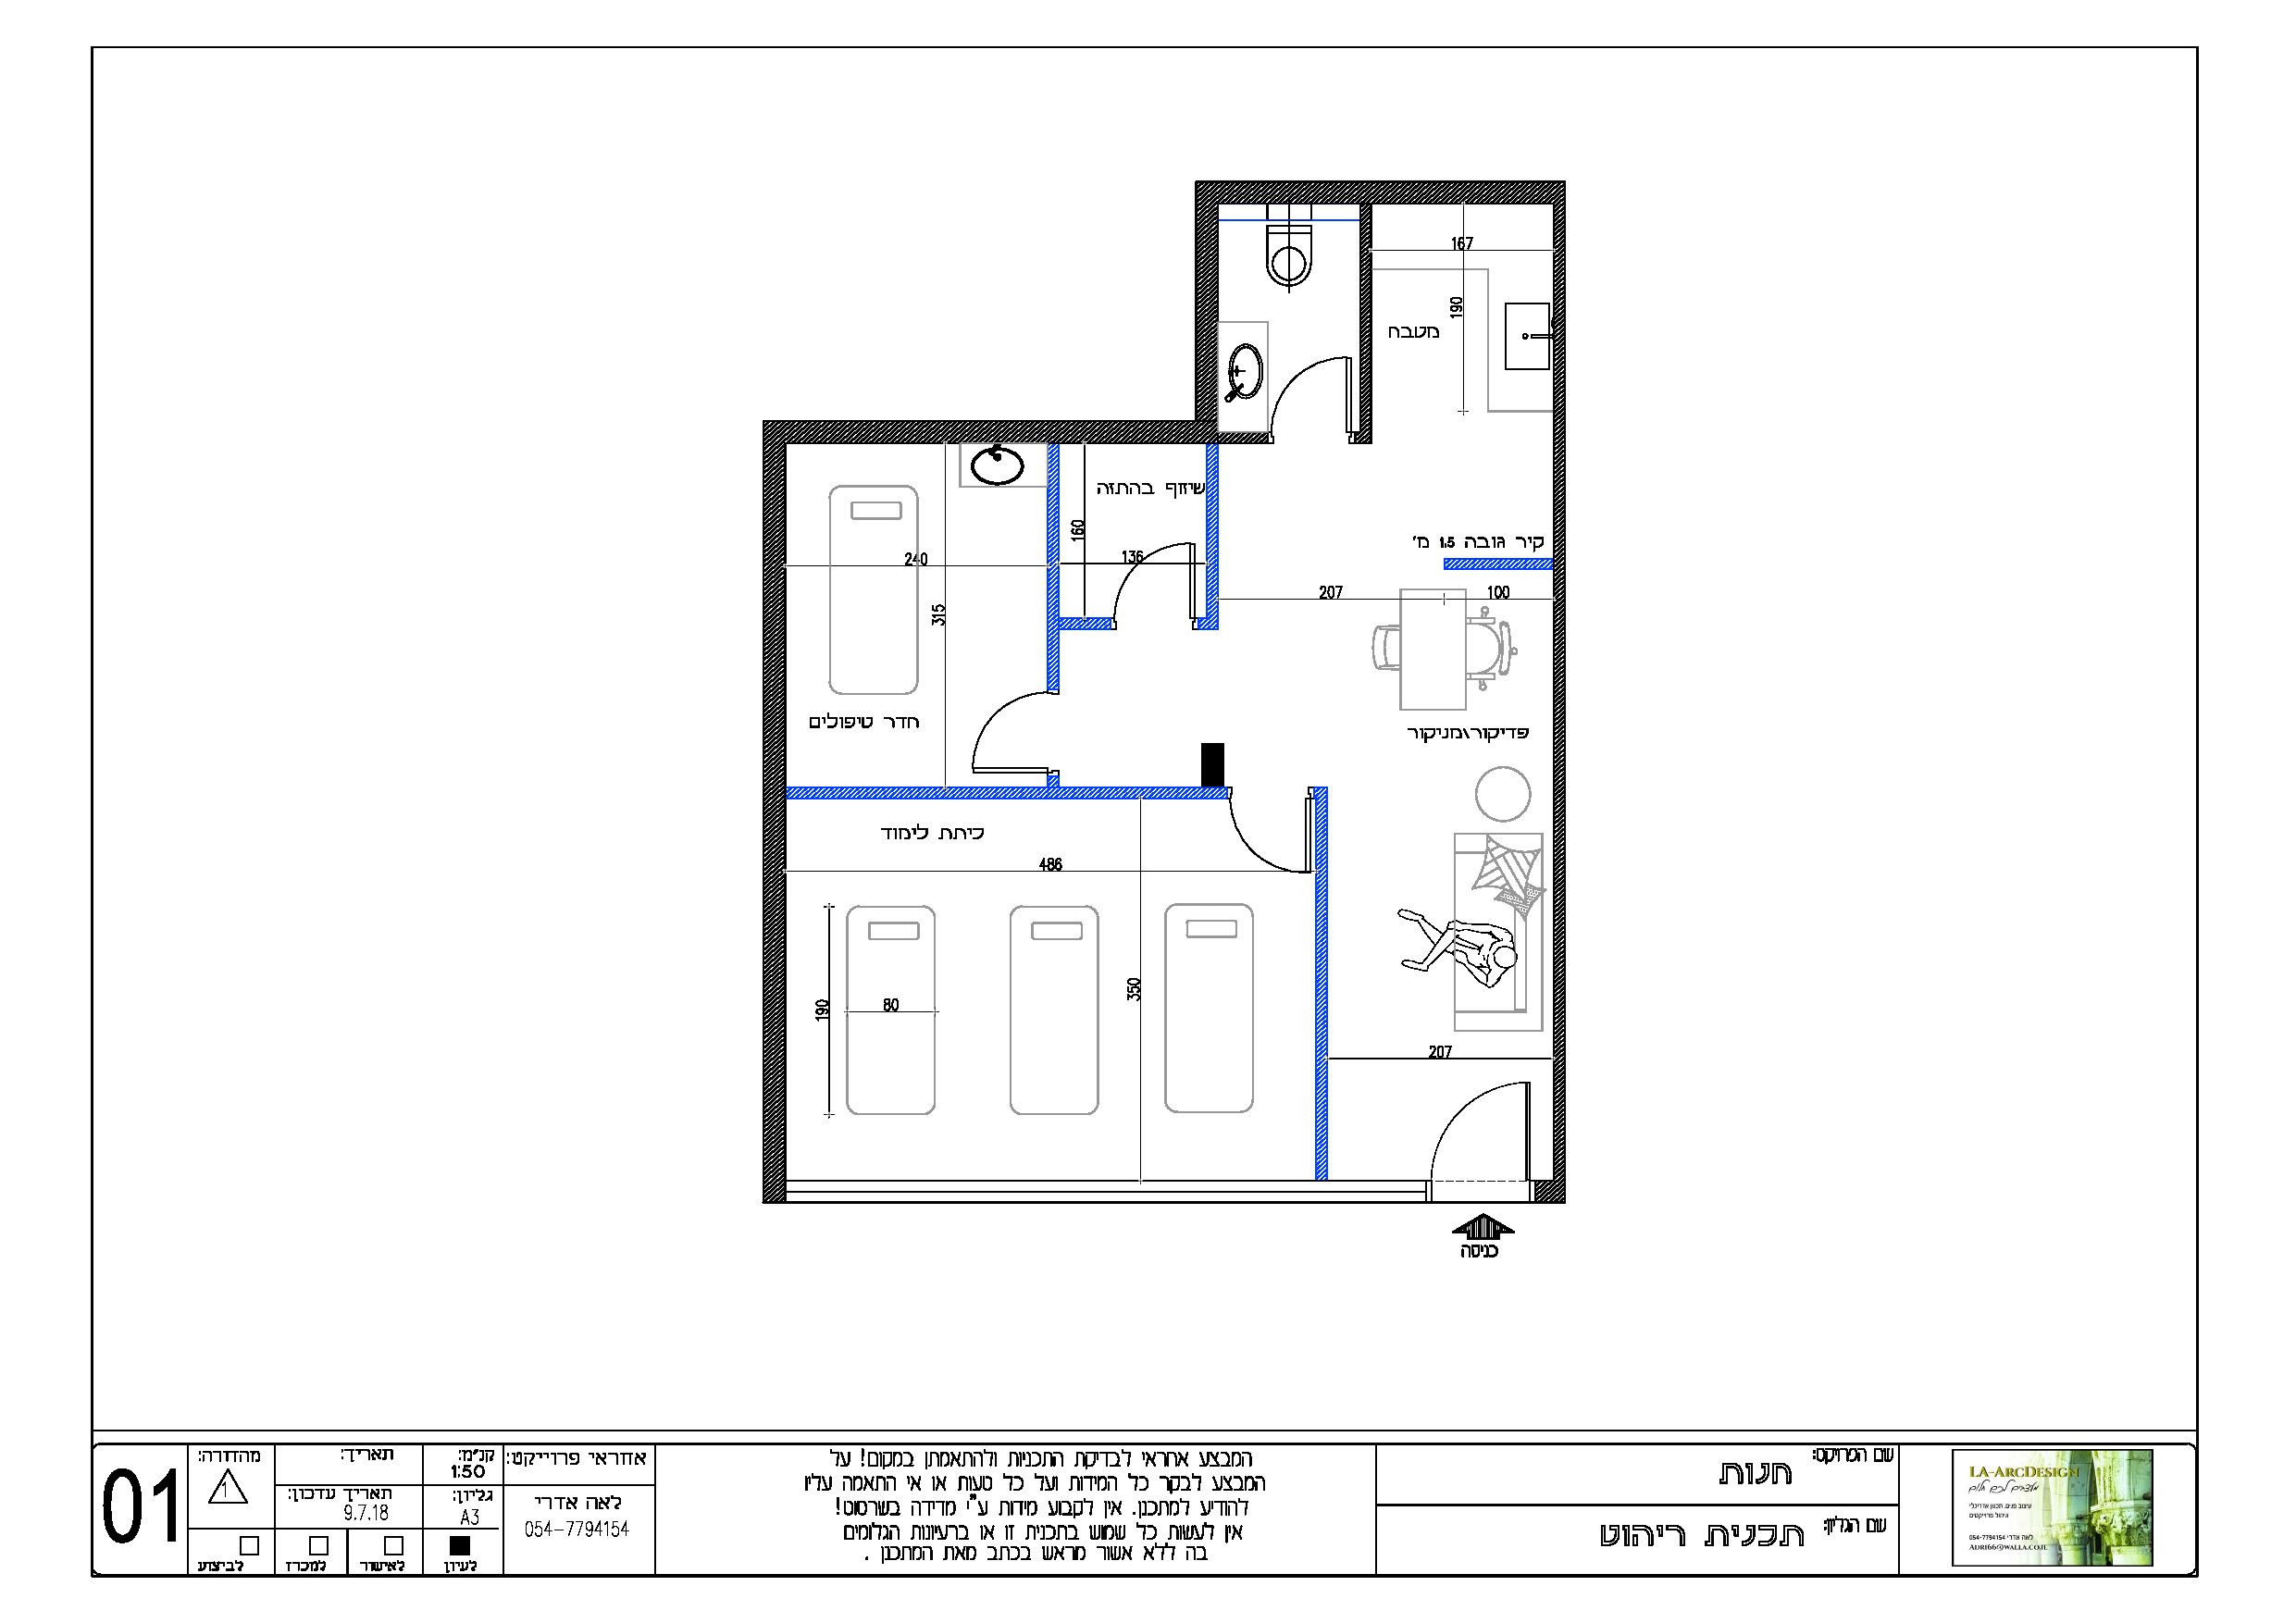door: (1430, 1080, 1534, 1165), (963, 678, 1035, 775), (1270, 351, 1353, 422), (1228, 806, 1310, 871)
wall: (766, 420, 787, 1170), (1195, 179, 1563, 204)
window: (787, 1180, 1425, 1205)
